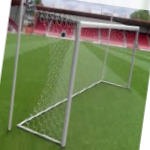goals: (17, 9, 141, 149)
